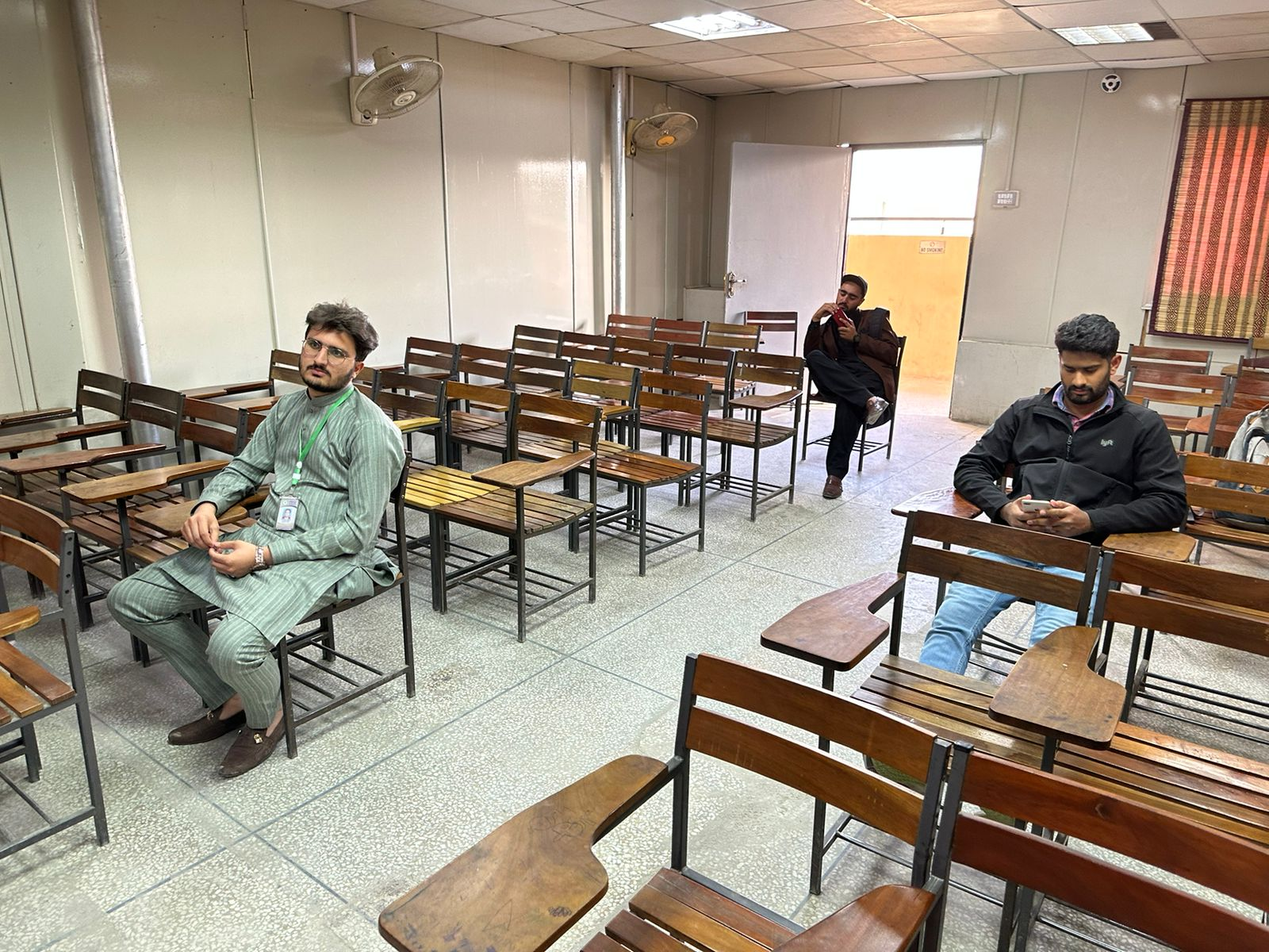non-cheating: (298, 299, 379, 394)
phone: (1012, 494, 1087, 538), (831, 307, 856, 335)
